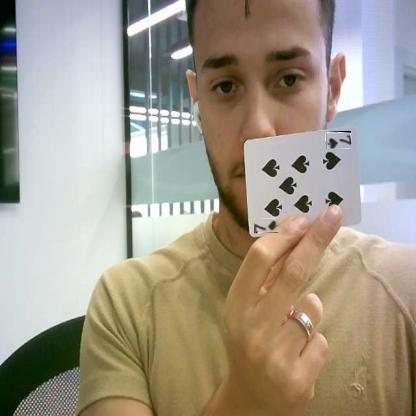7S: (326, 131, 351, 149), (254, 218, 278, 233)
